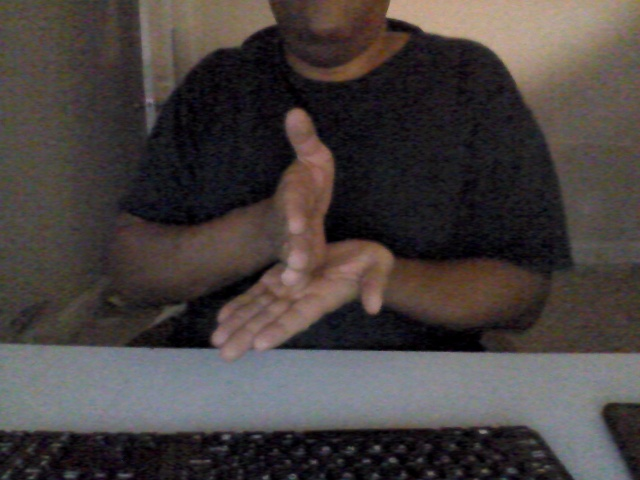stop: (208, 103, 396, 365)
